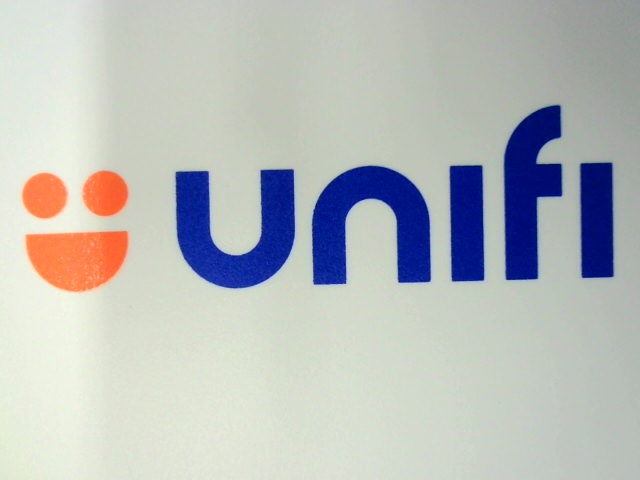BN_unifi: (11, 100, 631, 293)
